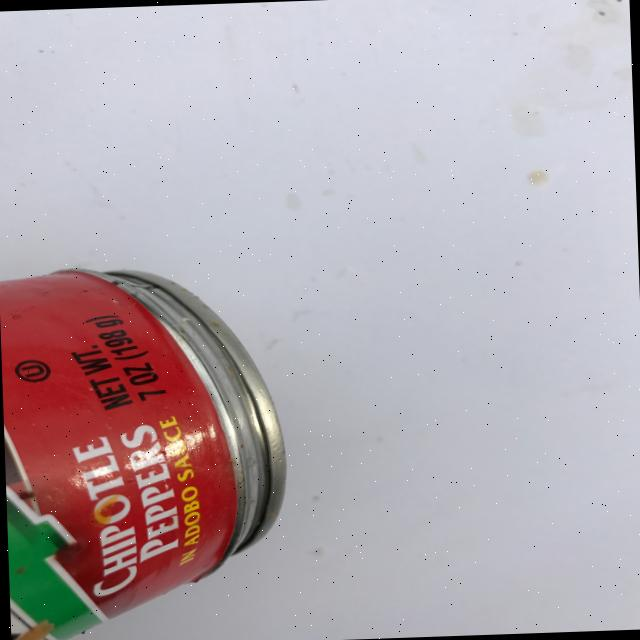metal: (0, 258, 293, 640)
